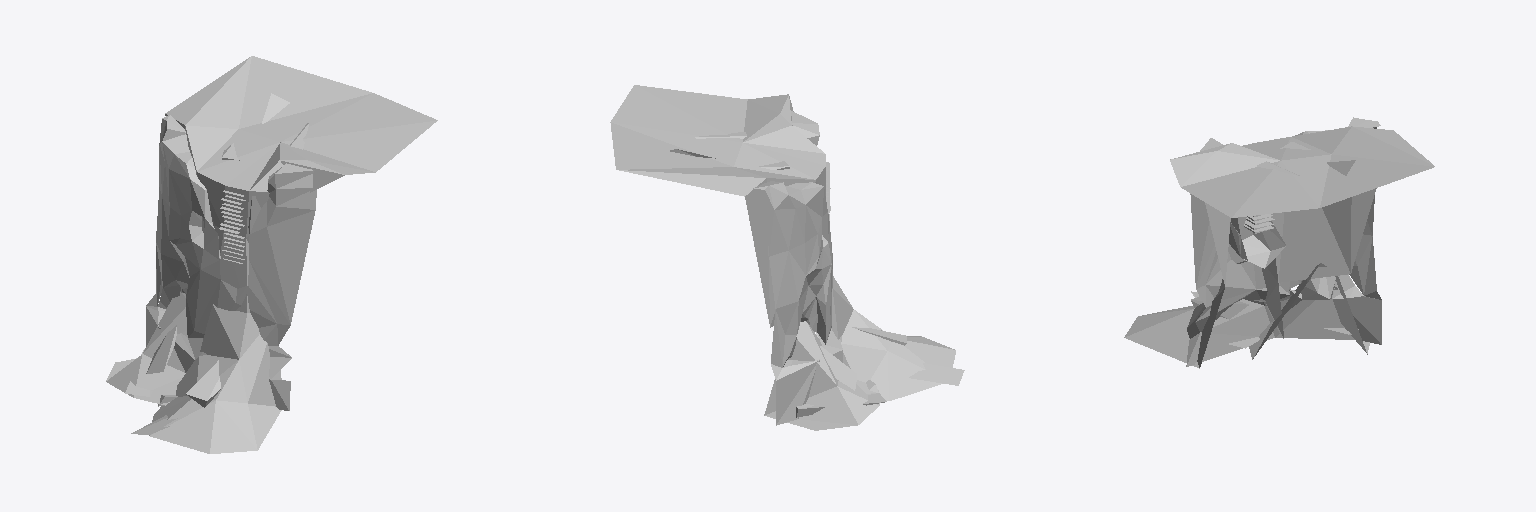
The model's file is btowarLOD.obj.
3 renders of one model, left to right at view 1: azimuth 30°, elevation 25°; view 2: azimuth 150°, elevation 25°; view 3: azimuth 270°, elevation 25°, orthographic.
Visible parts, largest first — view 1: btower.002_LOD1.001_LOD1; view 2: btower.002_LOD1.001_LOD1; view 3: btower.002_LOD1.001_LOD1.
Boxes of the visible parts, x1=… form: btower.002_LOD1.001_LOD1: x1=106, y1=56, x2=437, y2=453; btower.002_LOD1.001_LOD1: x1=610, y1=85, x2=964, y2=430; btower.002_LOD1.001_LOD1: x1=1124, y1=117, x2=1434, y2=368.
Bounding box in the file's own units: 4.64 × 3.51 × 3.97.